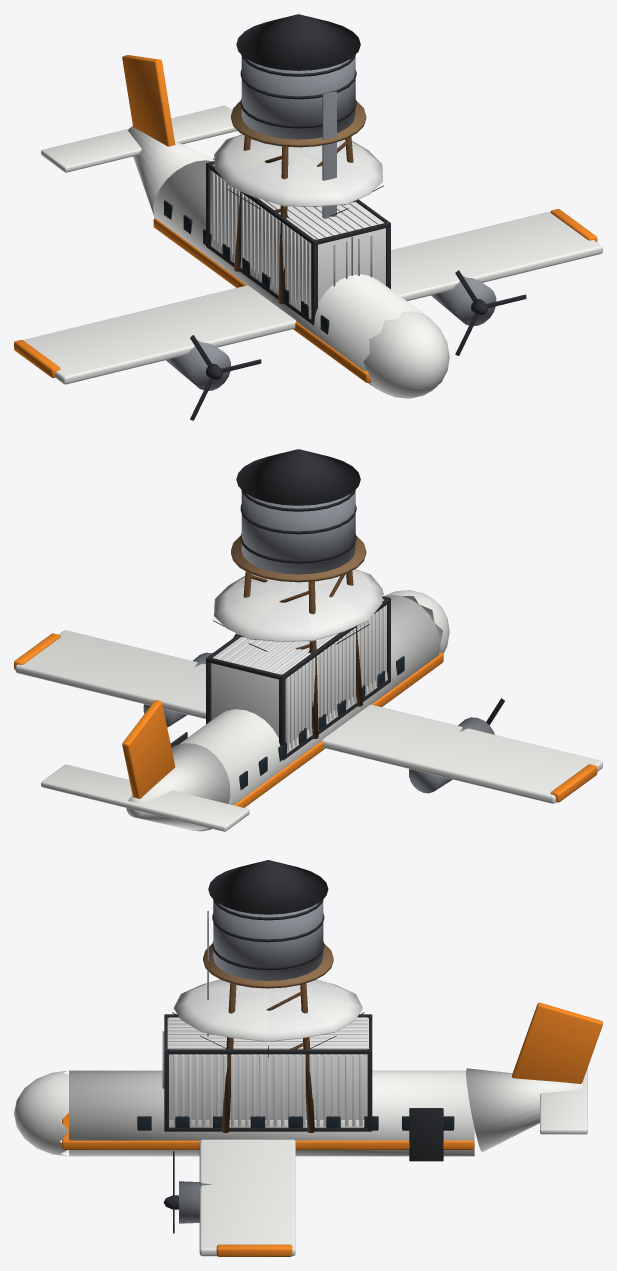
The model's file is extras.glb.
The picture shows the model from 3 angles, top to bottom: view 1: azimuth 30°, elevation 25°; view 2: azimuth 150°, elevation 25°; view 3: azimuth 270°, elevation 25°; orthographic projection. The views are drawn at different scales.
Parts seen in each view (by area): view 1: plane, water_tower, container, chute; view 2: plane, water_tower, container, chute; view 3: plane, container, water_tower, chute.
Boxes of the visible parts, x1=… form: plane: x1=14, y1=55, x2=602, y2=420; water_tower: x1=231, y1=14, x2=366, y2=303; container: x1=206, y1=161, x2=390, y2=325; chute: x1=213, y1=134, x2=383, y2=218; plane: x1=14, y1=590, x2=602, y2=831; water_tower: x1=231, y1=449, x2=366, y2=738; container: x1=206, y1=596, x2=390, y2=760; chute: x1=213, y1=569, x2=383, y2=652; plane: x1=14, y1=1002, x2=602, y2=1256; container: x1=162, y1=1014, x2=372, y2=1131; water_tower: x1=203, y1=860, x2=333, y2=1132; chute: x1=172, y1=979, x2=364, y2=1057.
Size of the model in its own units: 17.7 by 10.28 by 17.14.
